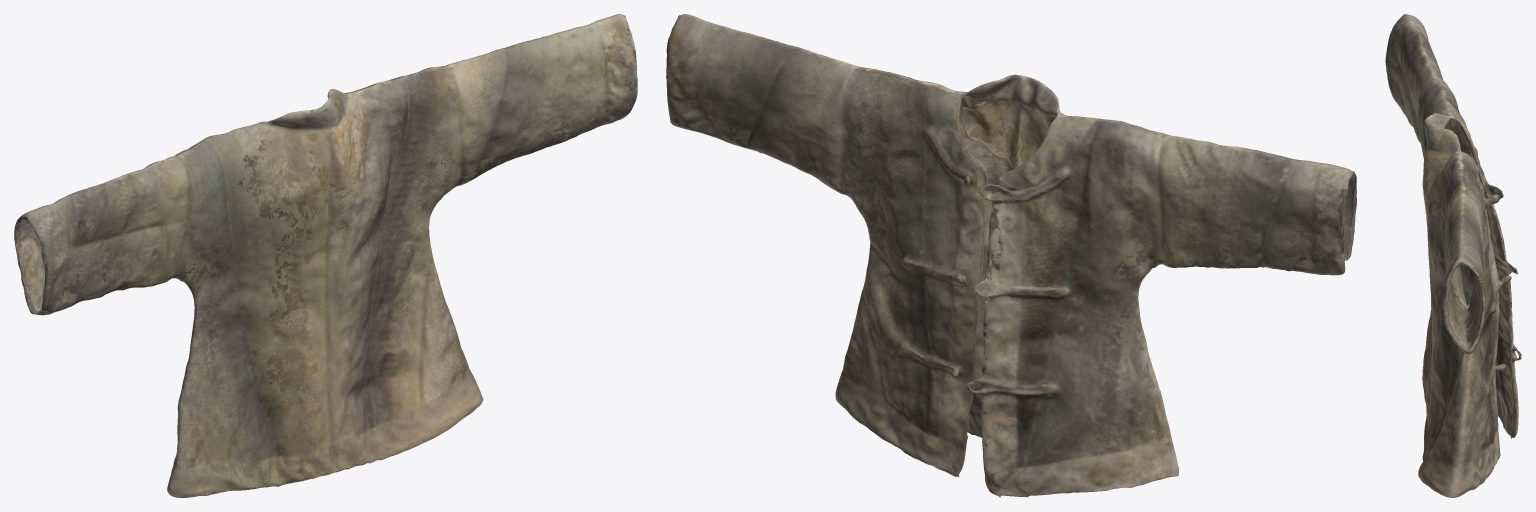
Rendered from 赫哲族鱼皮制作技艺2.glb.
3 renders of one model, left to right at view 1: azimuth 30°, elevation 25°; view 2: azimuth 150°, elevation 25°; view 3: azimuth 270°, elevation 25°, orthographic. The views are drawn at different scales.
Visible parts, largest first — view 1: Object_8, Object_7, Object_3, Object_2, Object_4, Object_5, Object_9, Object_6, Object_10; view 2: Object_8, Object_7, Object_4, Object_3, Object_9, Object_6, Object_2, Object_5, Object_10; view 3: Object_7, Object_8, Object_2, Object_6, Object_10, Object_4, Object_3, Object_9, Object_5.
Boxes of the visible parts, box(x1,y1,x2,y2) form: Object_8: box(23, 17, 637, 497); Object_7: box(15, 20, 612, 490); Object_3: box(15, 47, 630, 495); Object_2: box(17, 15, 625, 487); Object_4: box(33, 25, 637, 487); Object_5: box(21, 28, 636, 475); Object_9: box(17, 22, 630, 495); Object_6: box(14, 14, 631, 497); Object_10: box(17, 18, 636, 489); Object_8: box(667, 37, 1346, 497); Object_7: box(666, 20, 1356, 439); Object_4: box(667, 18, 1343, 449); Object_3: box(666, 34, 1354, 478); Object_9: box(668, 23, 1356, 497); Object_6: box(666, 14, 1356, 496); Object_2: box(677, 15, 1118, 473); Object_5: box(666, 27, 1355, 496); Object_10: box(666, 15, 1356, 496); Object_7: box(1386, 14, 1514, 497); Object_8: box(1416, 71, 1520, 438); Object_2: box(1418, 72, 1519, 497); Object_6: box(1386, 19, 1516, 497); Object_10: box(1390, 14, 1520, 490); Object_4: box(1404, 17, 1505, 495); Object_3: box(1387, 24, 1513, 495); Object_9: box(1399, 16, 1517, 477); Object_5: box(1385, 14, 1521, 492).
Size of the model in its own units: 5.5 by 3.1 by 1.16.
1 material, 1 textured.
